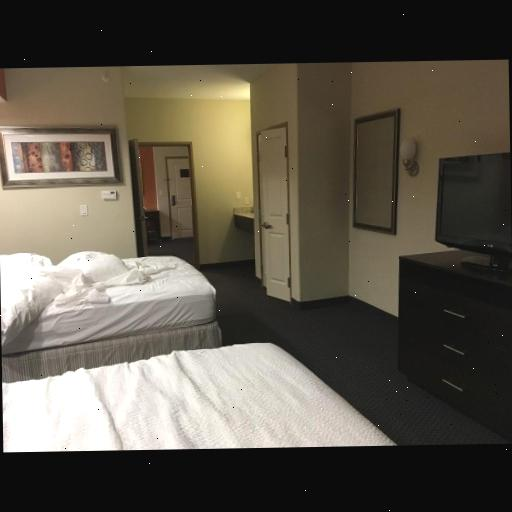clean_bed: (4, 343, 400, 454)
messy_bed: (2, 251, 225, 381)
